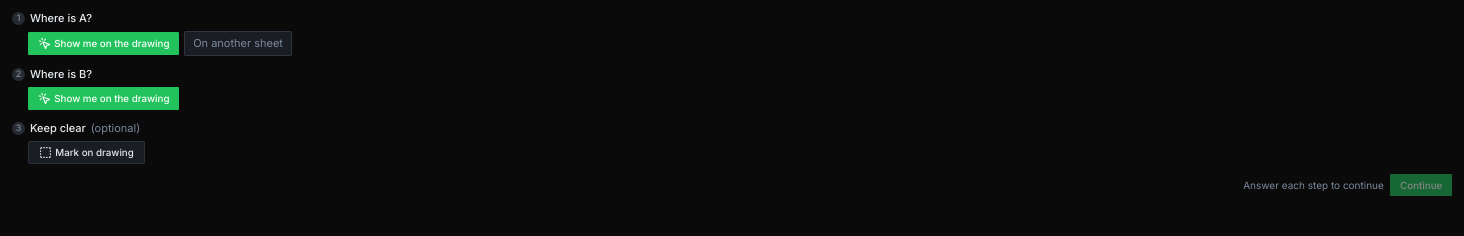
it: live drawing-card interactions › does not redirect a closed document card to the current document
The width and height of the screenshot is (1464, 236).
Click the button "Show me on the drawing" below "Where is A?".
click(104, 44)  # box [28,32,179,55]
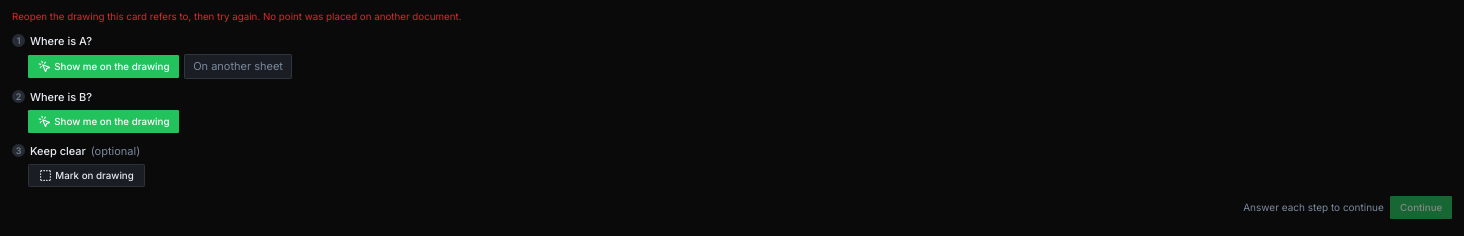
Check: the message shows "Reopen the drawing", box [12,11,462,22]
